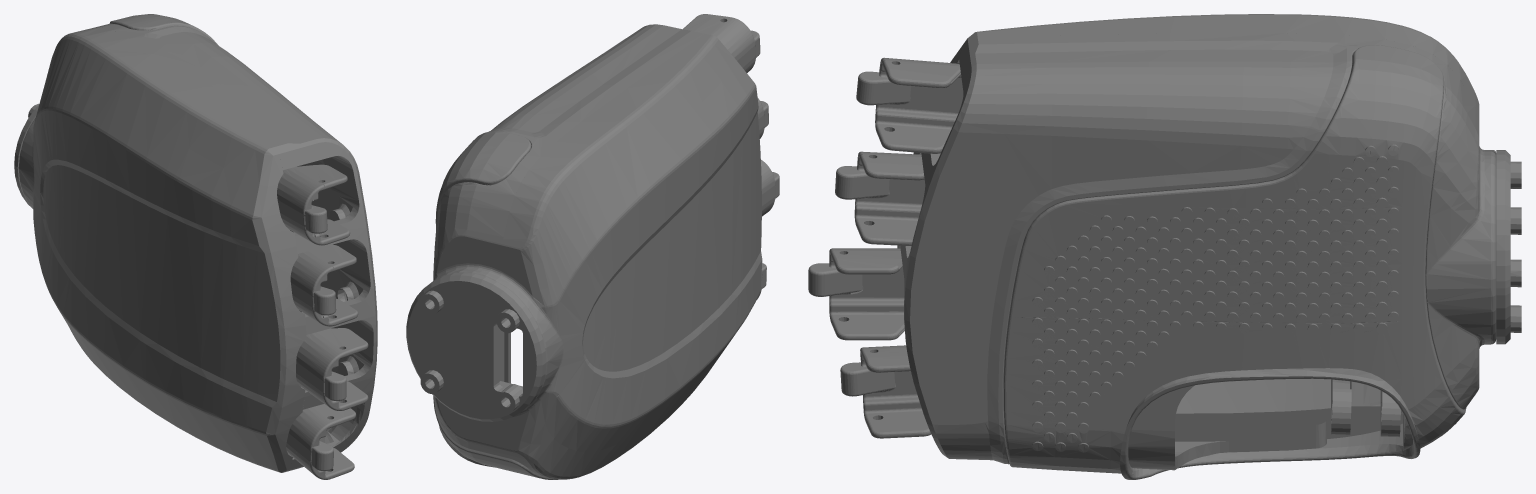
Rendered from lh_hand_base_link_vis.obj.
3 views of the same model, side by side, from view 1: azimuth 30°, elevation 25°; view 2: azimuth 150°, elevation 25°; view 3: azimuth 270°, elevation 25° (orthographic). The views are drawn at different scales.
Visible parts, largest first — view 1: lh_hand_base_link; view 2: lh_hand_base_link; view 3: lh_hand_base_link.
Boxes of the visible parts, x1,y1,x2,y2 form: lh_hand_base_link: (14,14,377,479); lh_hand_base_link: (406,14,779,479); lh_hand_base_link: (808,14,1521,479).
Bounding box in the file's own units: 0.0432 × 0.0848 × 0.1318.
1 material, 1 textured.
